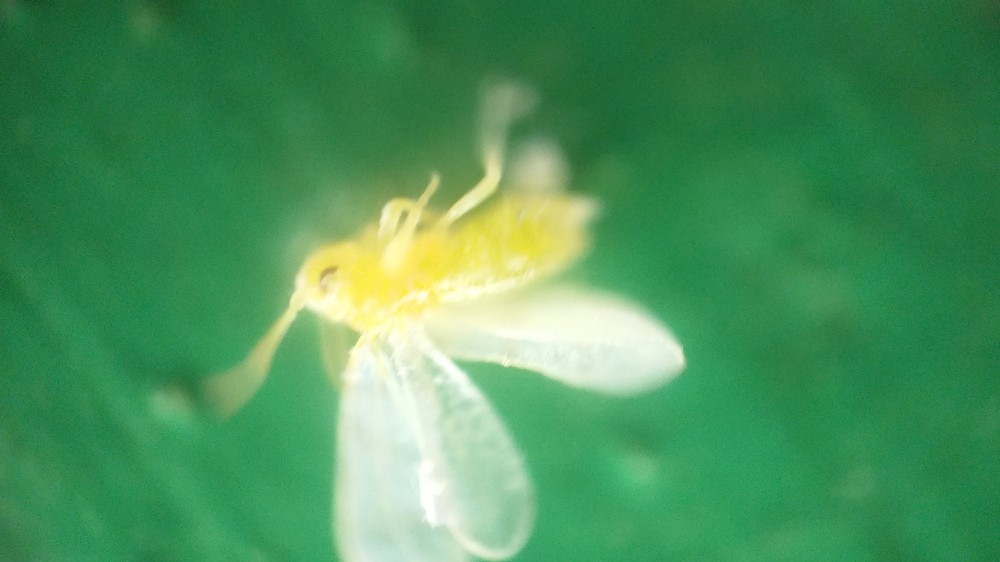Mosca Blanca: (203, 79, 698, 562)
